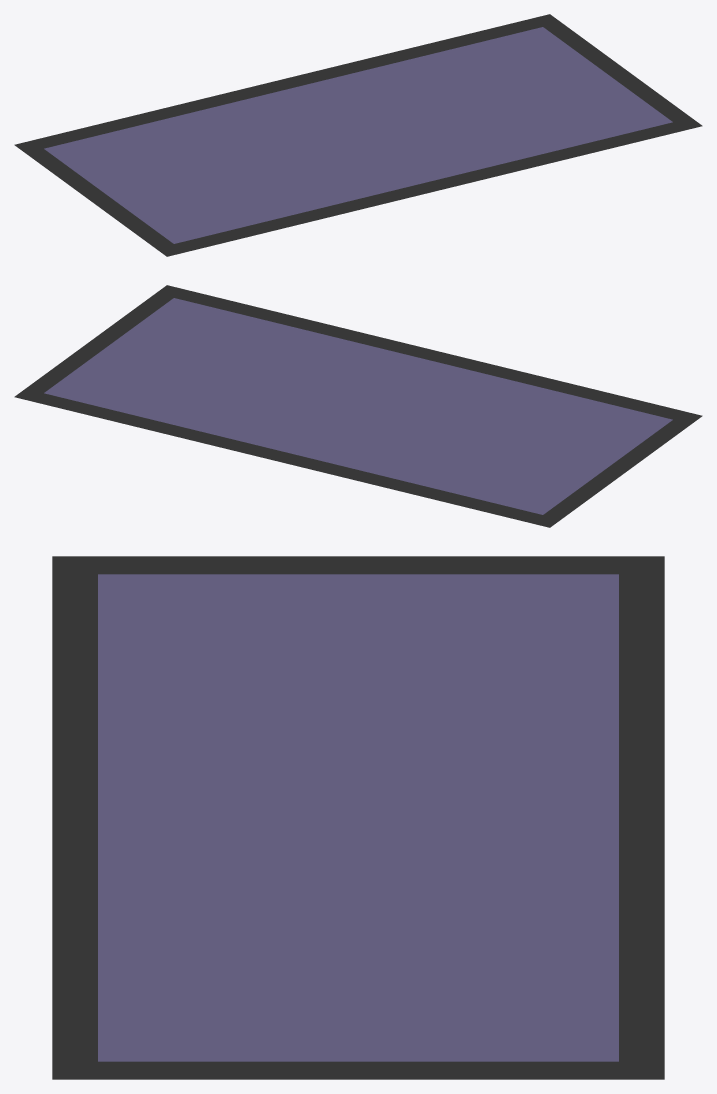
File: S.Rug.fbx
3 views of the same model, one above another, from view 1: azimuth 30°, elevation 25°; view 2: azimuth 150°, elevation 25°; view 3: azimuth 270°, elevation 25° (orthographic). The views are drawn at different scales.
Visible parts, largest first — view 1: Plane; view 2: Plane; view 3: Plane.
Boxes of the visible parts, left/top/right/bottom form: Plane: left=14, top=14, right=702, bottom=256; Plane: left=14, top=285, right=702, bottom=527; Plane: left=52, top=556, right=664, bottom=1079.
Bounding box in the file's own units: 1024 × 8.25e-05 × 507.
